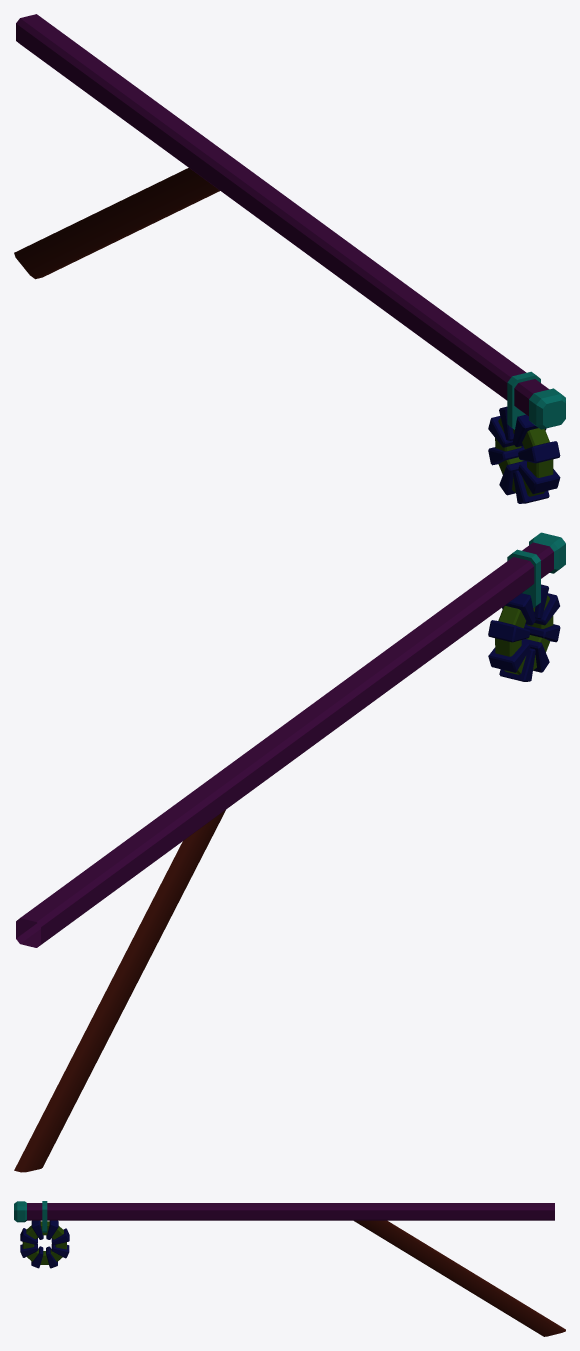
File: OBJ_Cible_Grapin.fbx
3 renders of one model, top to bottom at view 1: azimuth 30°, elevation 25°; view 2: azimuth 150°, elevation 25°; view 3: azimuth 270°, elevation 25°, orthographic. The views are drawn at different scales.
Visible parts, largest first — view 1: Cible_Grappin; view 2: Cible_Grappin; view 3: Cible_Grappin.
Boxes of the visible parts, x1,y1,x2,y2 form: Cible_Grappin: (14,14,565,503); Cible_Grappin: (14,532,565,1172); Cible_Grappin: (14,1201,565,1336).
Bounding box in the file's own units: 106 × 880 × 3319.
